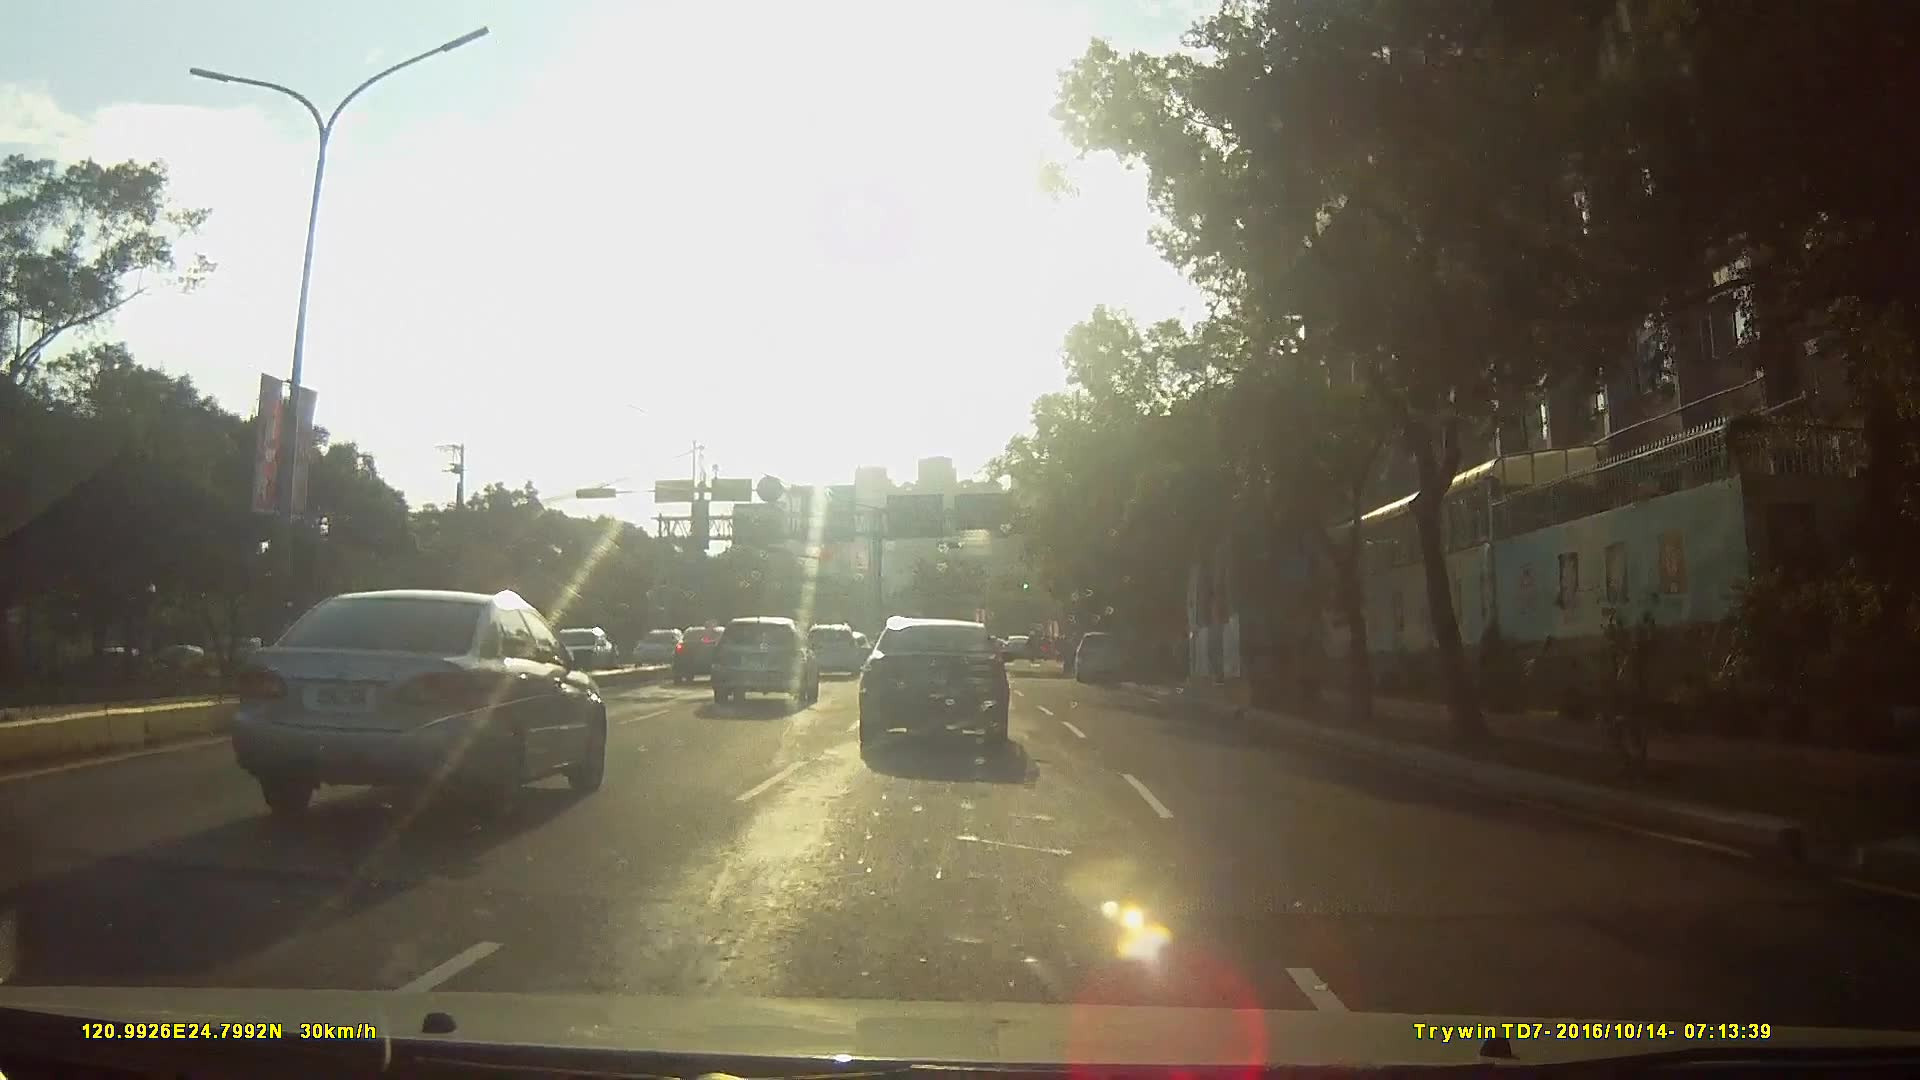vehicle: (214, 580, 621, 833), (855, 608, 1033, 760), (709, 615, 819, 709), (541, 618, 626, 676), (655, 618, 731, 680), (799, 620, 862, 676), (1071, 626, 1131, 680), (630, 626, 690, 667)
